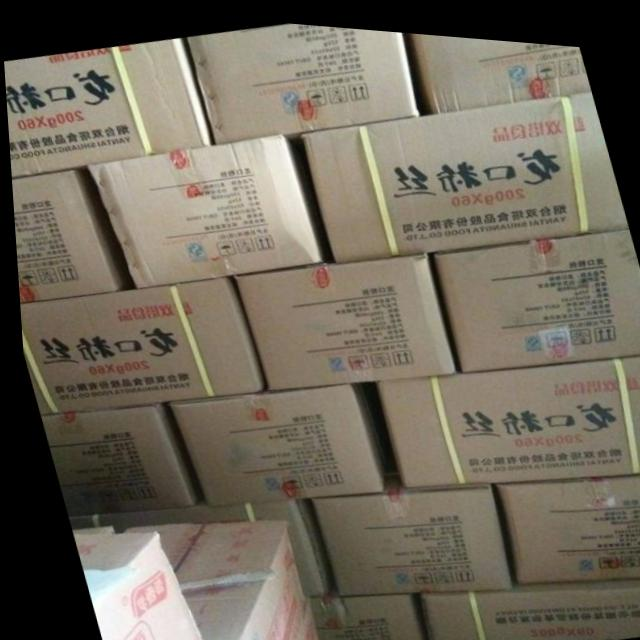box: (302, 81, 626, 258), (85, 129, 332, 287), (371, 343, 640, 480), (16, 273, 258, 415), (230, 246, 451, 387), (431, 218, 640, 364), (3, 35, 209, 177), (186, 19, 418, 141), (303, 453, 504, 591), (163, 377, 379, 505), (114, 516, 312, 640), (36, 399, 194, 513), (491, 463, 640, 575), (412, 567, 640, 640), (9, 164, 126, 302), (409, 26, 590, 107), (67, 531, 195, 640), (299, 582, 421, 640)
